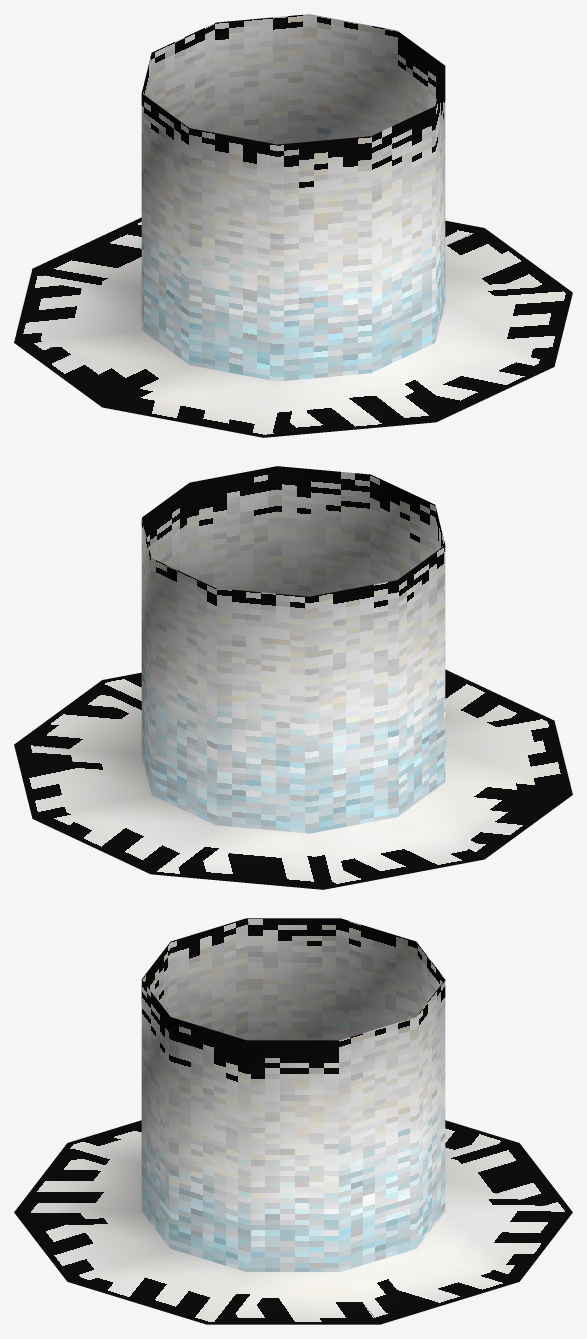
3 renders of one model, top to bottom at view 1: azimuth 30°, elevation 25°; view 2: azimuth 150°, elevation 25°; view 3: azimuth 270°, elevation 25°, orthographic. The views are drawn at different scales.
Parts seen in each view (by area): view 1: Circle; view 2: Circle; view 3: Circle.
Boxes of the visible parts, x1,y1,x2,y2 form: Circle: (14,14,572,437); Circle: (14,466,572,889); Circle: (14,918,572,1324).
Size of the model in its own units: 10.05 by 4.86 by 10.57.
Materials: 1 (1 with a texture image).
